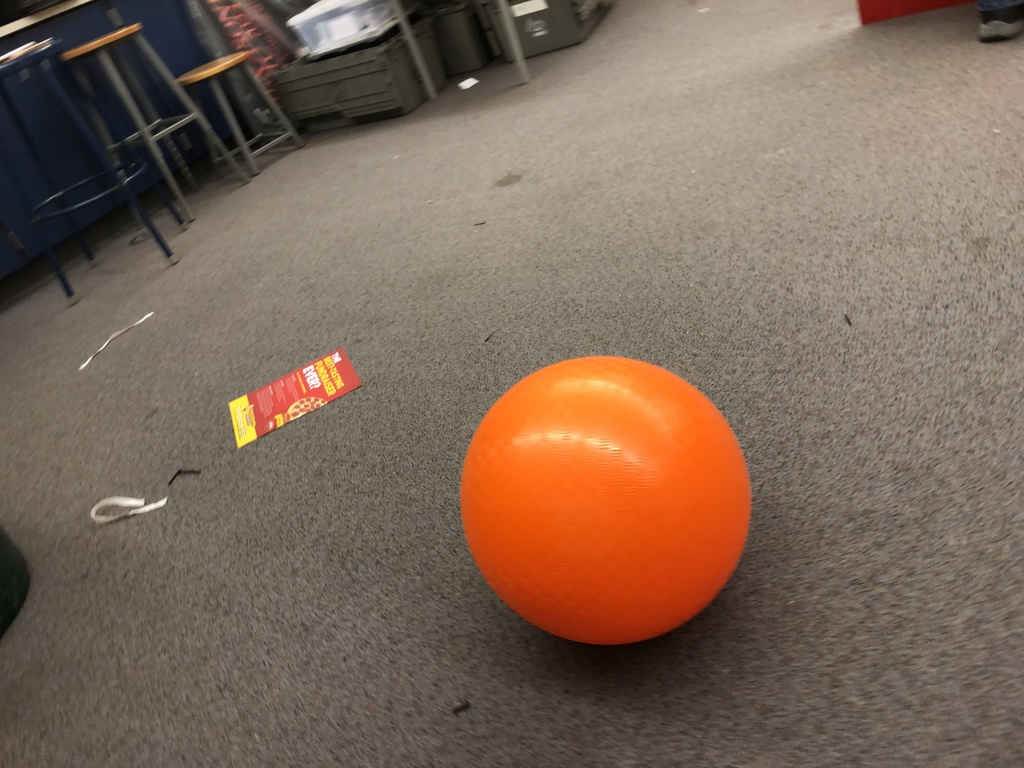cargo: (453, 350, 763, 654)
